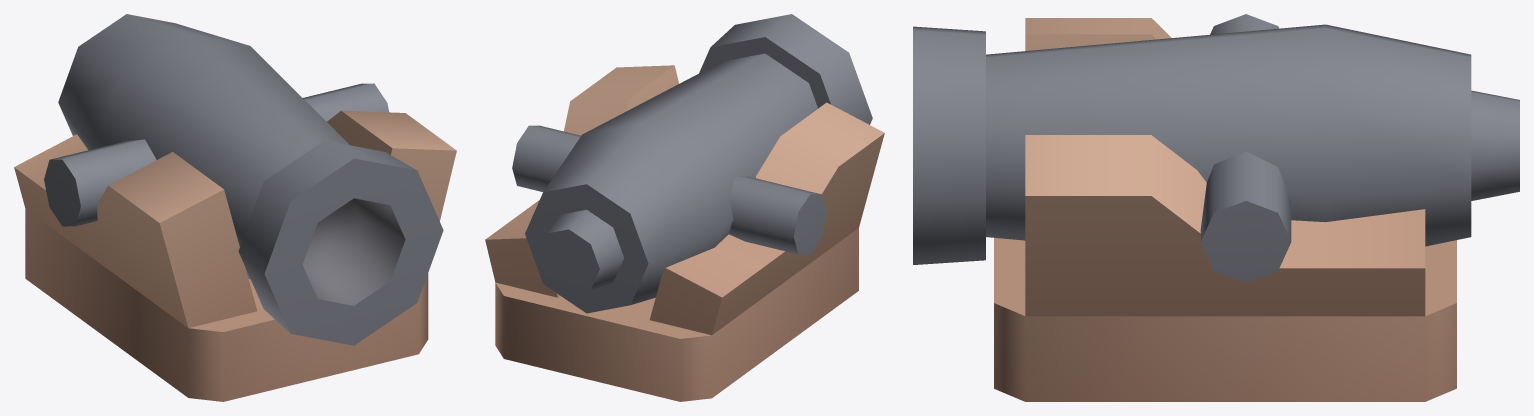
The model's file is cannon.glb.
The picture shows the model from 3 angles, left to right: view 1: azimuth 30°, elevation 25°; view 2: azimuth 150°, elevation 25°; view 3: azimuth 270°, elevation 25°; orthographic projection. The views are drawn at different scales.
Visible parts, largest first — view 1: cannon, Group (×2); view 2: cannon, Group (×2); view 3: cannon, Group (×2).
Part boxes in pixels (<box>): cannon: <box>25,14,443,401</box>; Group (×2): <box>14,110,456,327</box>; cannon: <box>495,14,872,401</box>; Group (×2): <box>485,65,884,335</box>; cannon: <box>913,14,1519,401</box>; Group (×2): <box>1025,18,1425,316</box>.
Size of the model in its own units: 1.4 by 1.05 by 1.92.
